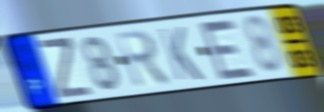8: (243, 13, 284, 77), (81, 34, 121, 92)
E: (196, 18, 258, 82)
K: (156, 25, 206, 83)
R: (113, 27, 174, 91)
Z: (36, 36, 95, 101)
